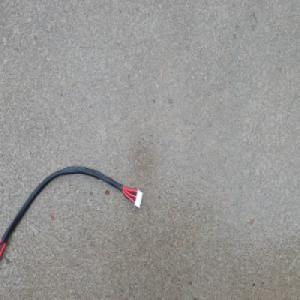Wire: (0, 164, 144, 267)
